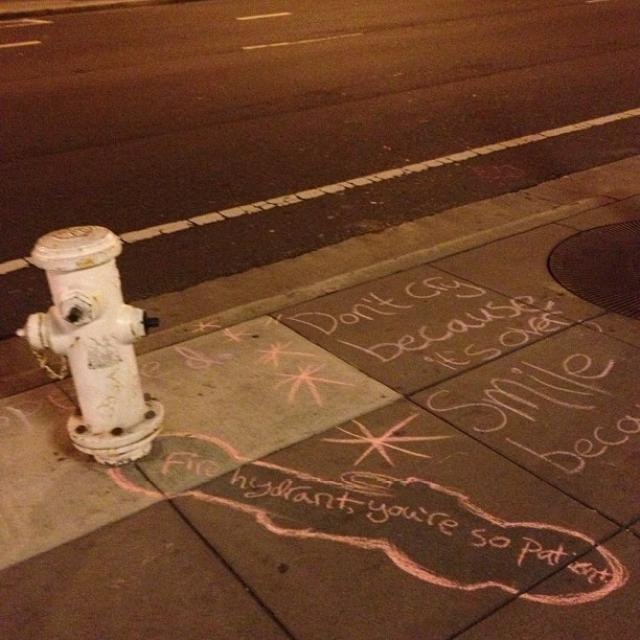fire_hydrant: (12, 222, 168, 468)
